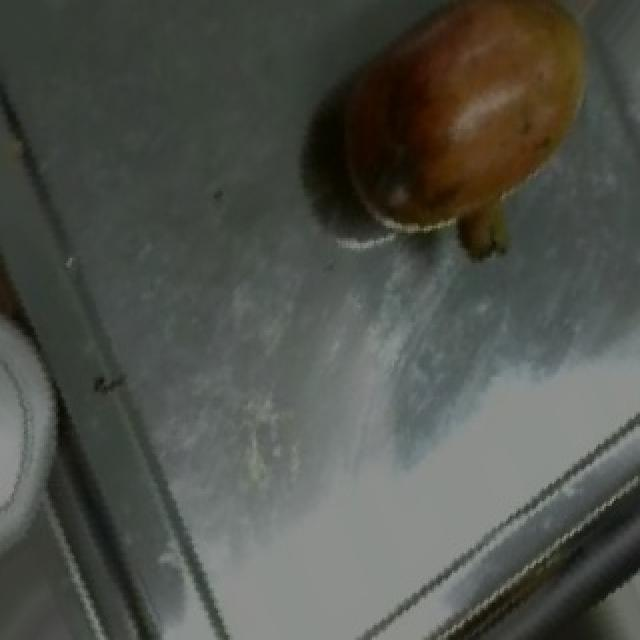fruit: (316, 0, 602, 278)
